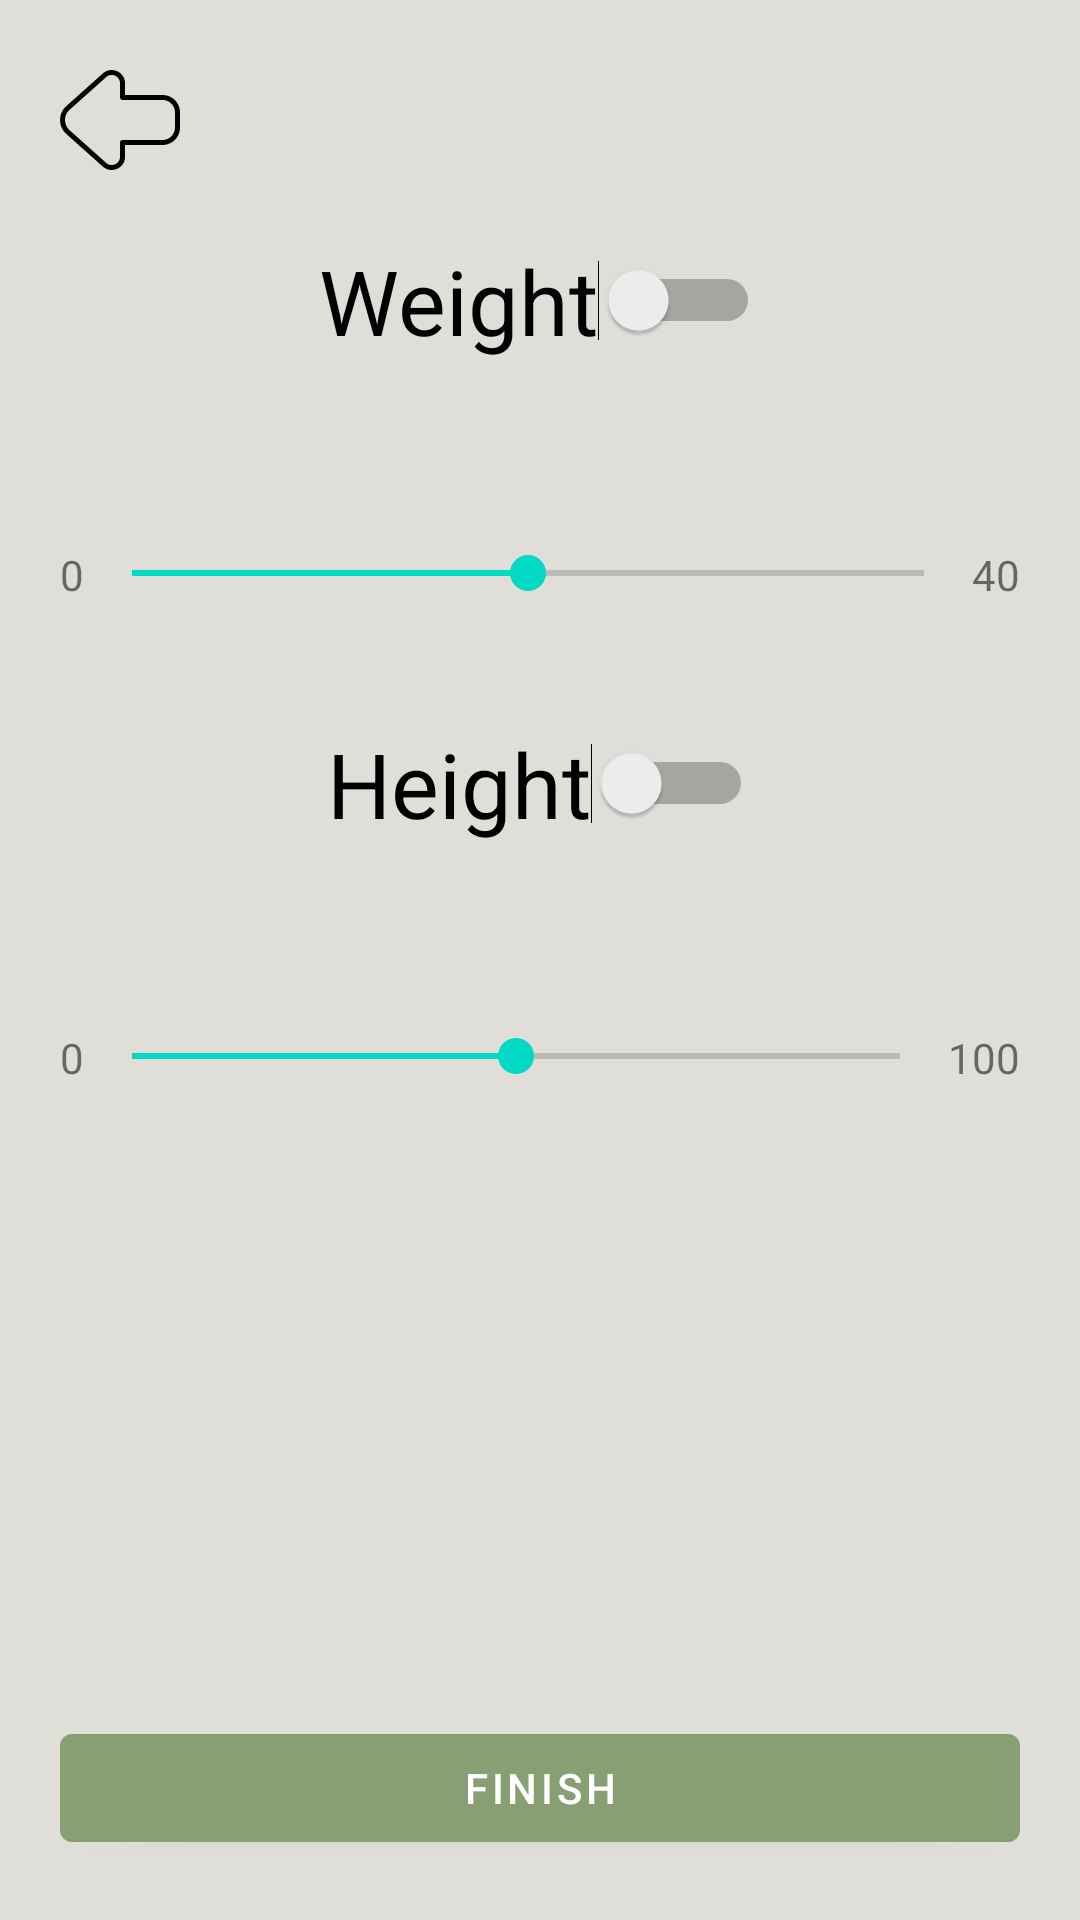

Named icons in this screenshot (1080 × 1920) and their centers, (x=x, y=y):
left: (x=120, y=120)
